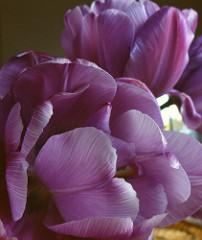tulip: (0, 51, 202, 240), (60, 0, 198, 94)
